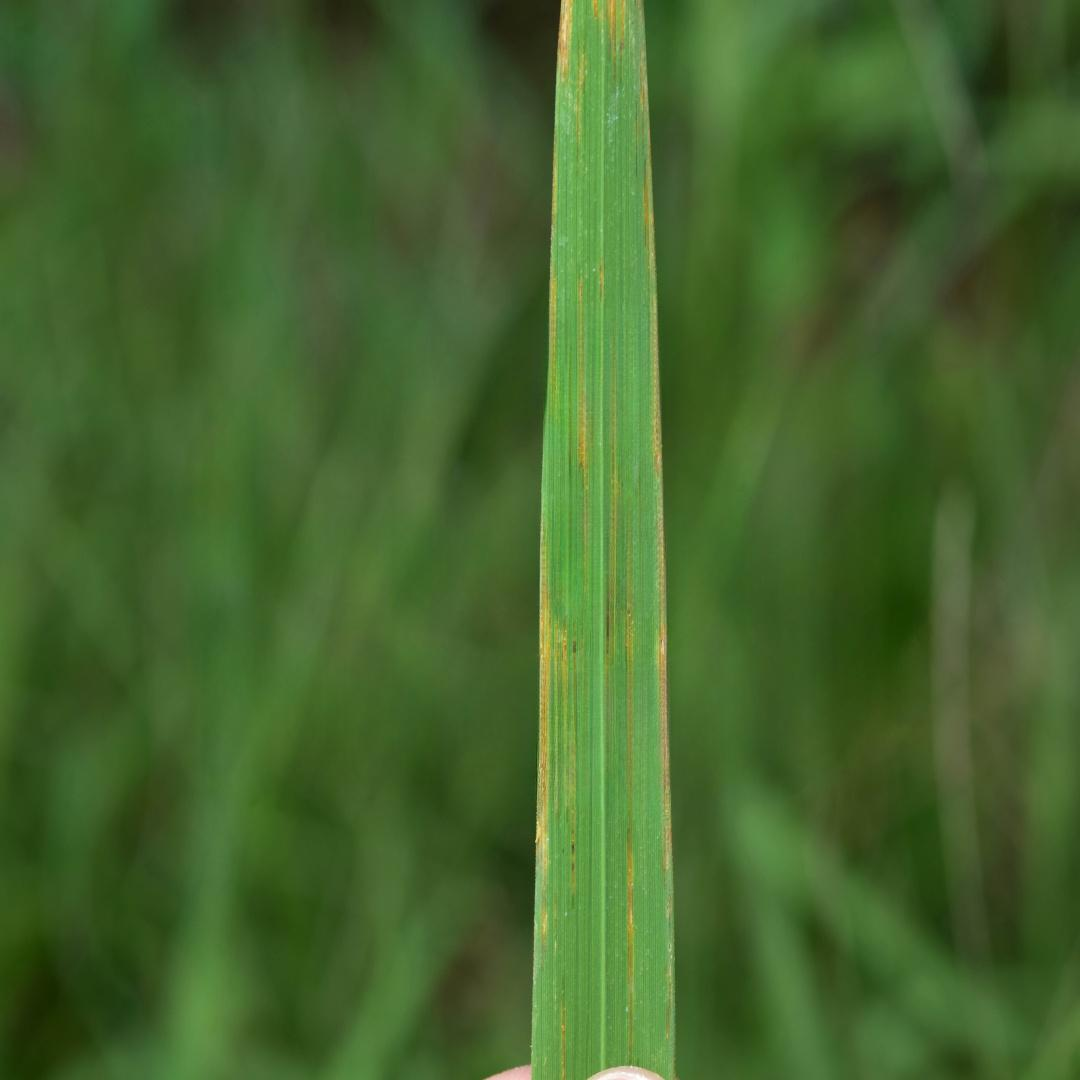BLS: (651, 310, 672, 872), (536, 528, 552, 954), (576, 275, 589, 586), (604, 357, 617, 667), (626, 562, 633, 1065), (557, 1, 572, 79), (549, 277, 556, 368), (609, 1, 616, 82), (561, 980, 566, 1078), (643, 160, 648, 249), (553, 617, 559, 669), (620, 1, 626, 49), (562, 618, 567, 670), (592, 1, 598, 21)
LEAF: (533, 0, 675, 1079)
